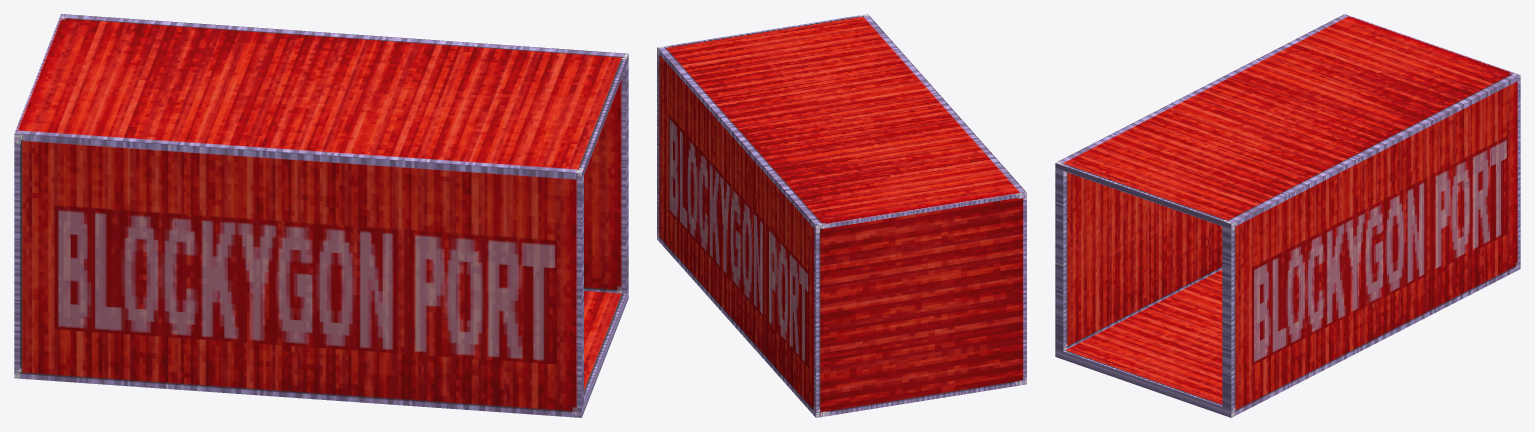
Rendered from BLOCKYGON_RED  CONTAINER(HALF OPEN).fbx.
3 renders of one model, left to right at view 1: azimuth 30°, elevation 25°; view 2: azimuth 150°, elevation 25°; view 3: azimuth 270°, elevation 25°, orthographic. The views are drawn at different scales.
Visible parts, largest first — view 1: BLOCKYGON_RED__CONTAINER_HALF_OPEN_; view 2: BLOCKYGON_RED__CONTAINER_HALF_OPEN_; view 3: BLOCKYGON_RED__CONTAINER_HALF_OPEN_.
Part boxes in pixels (x1=…): BLOCKYGON_RED__CONTAINER_HALF_OPEN_: x1=14, y1=14, x2=628, y2=417; BLOCKYGON_RED__CONTAINER_HALF_OPEN_: x1=657, y1=14, x2=1026, y2=417; BLOCKYGON_RED__CONTAINER_HALF_OPEN_: x1=1055, y1=14, x2=1520, y2=417.
Size of the model in its own units: 474 by 204 by 444.
Materials: 1 (1 with a texture image).
